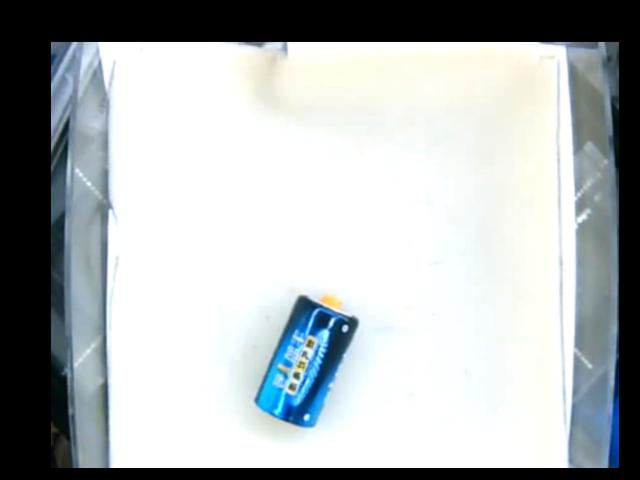Battery: (255, 294, 359, 428)
